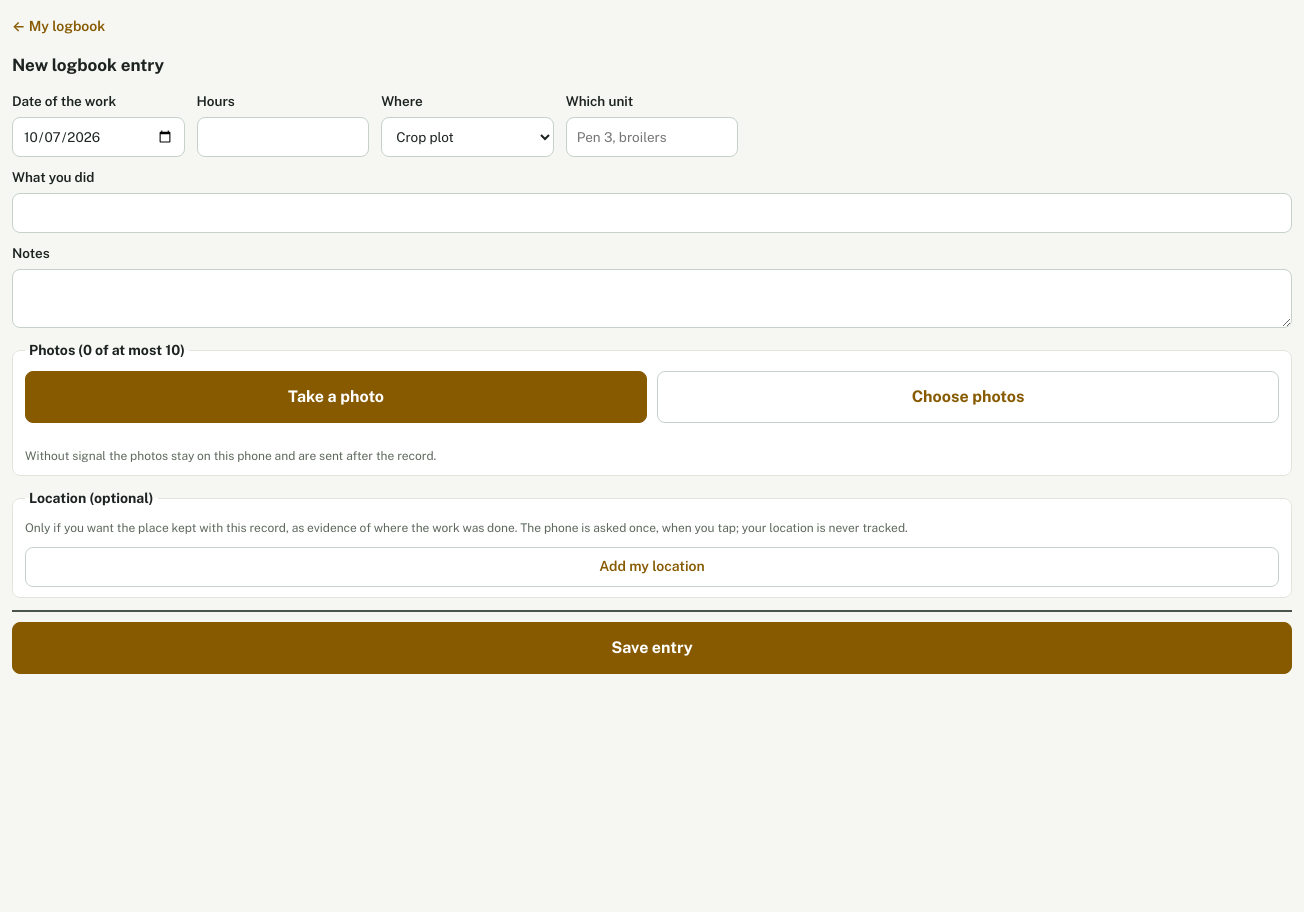
a student's logbook (item 3.14) › shows a refusal from the server
Type "2.5" into the number field labelled "Hours" at (283, 137), box [197,117,369,157]
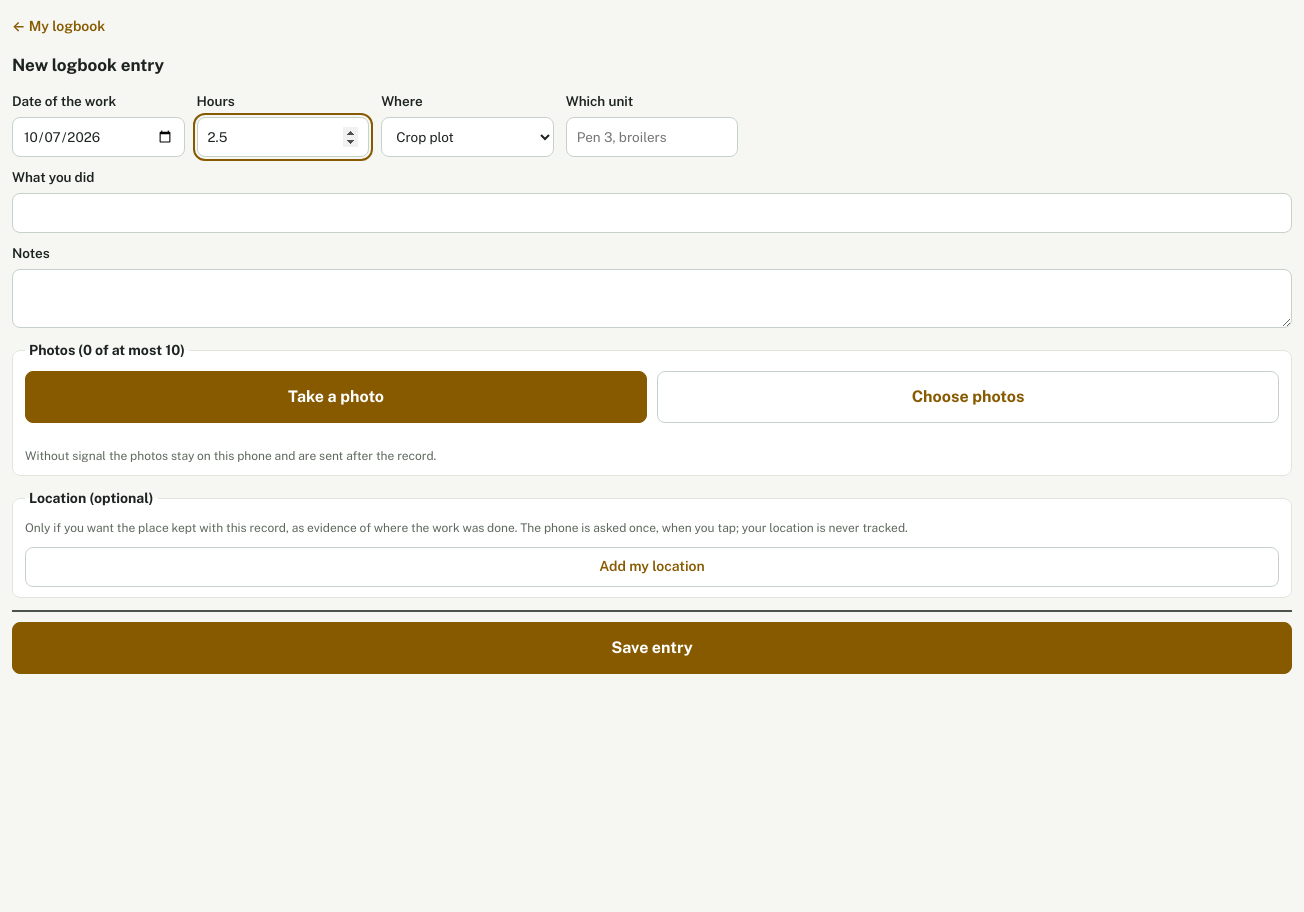
Select "Fish pond" in the dropdown labelled "Where" at (467, 137), box [381,117,554,157]
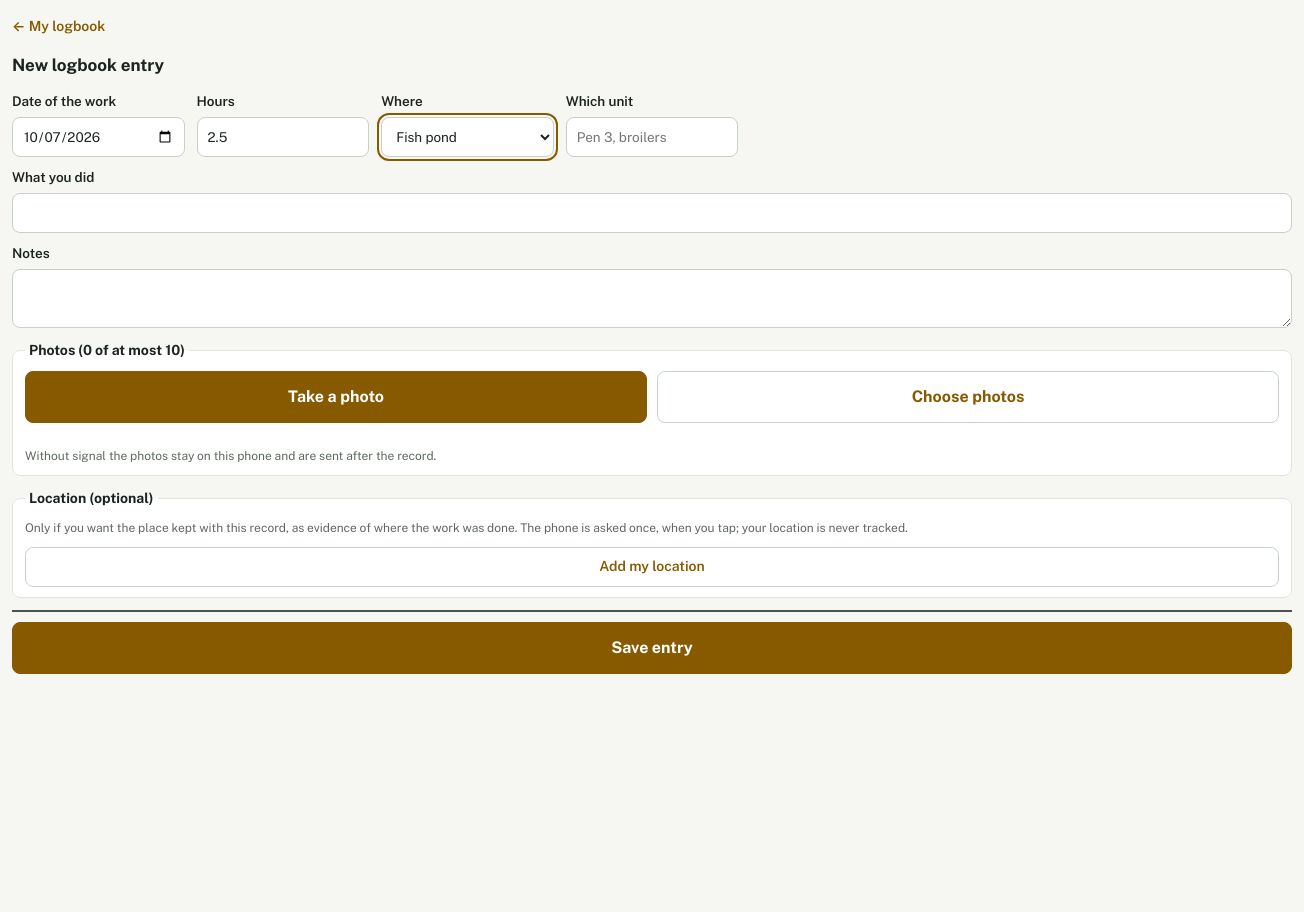
Type "Pond 2, tilapia" into the field labelled "Which unit" at (652, 137), box [566,117,738,157]
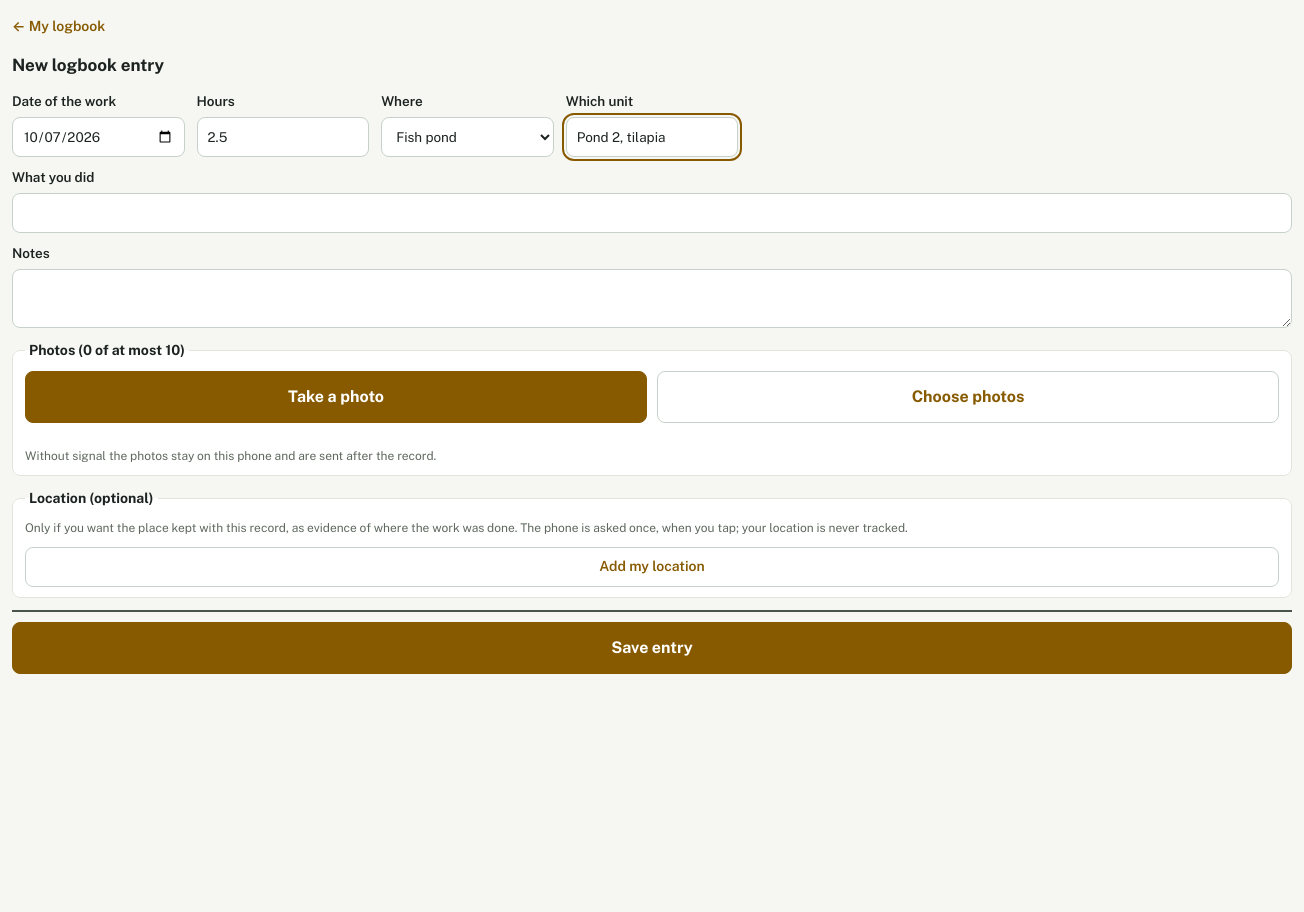
Type "Fed fingerlings and checked oxygen" into the field labelled "What you did" at (652, 213), box [12,193,1292,233]
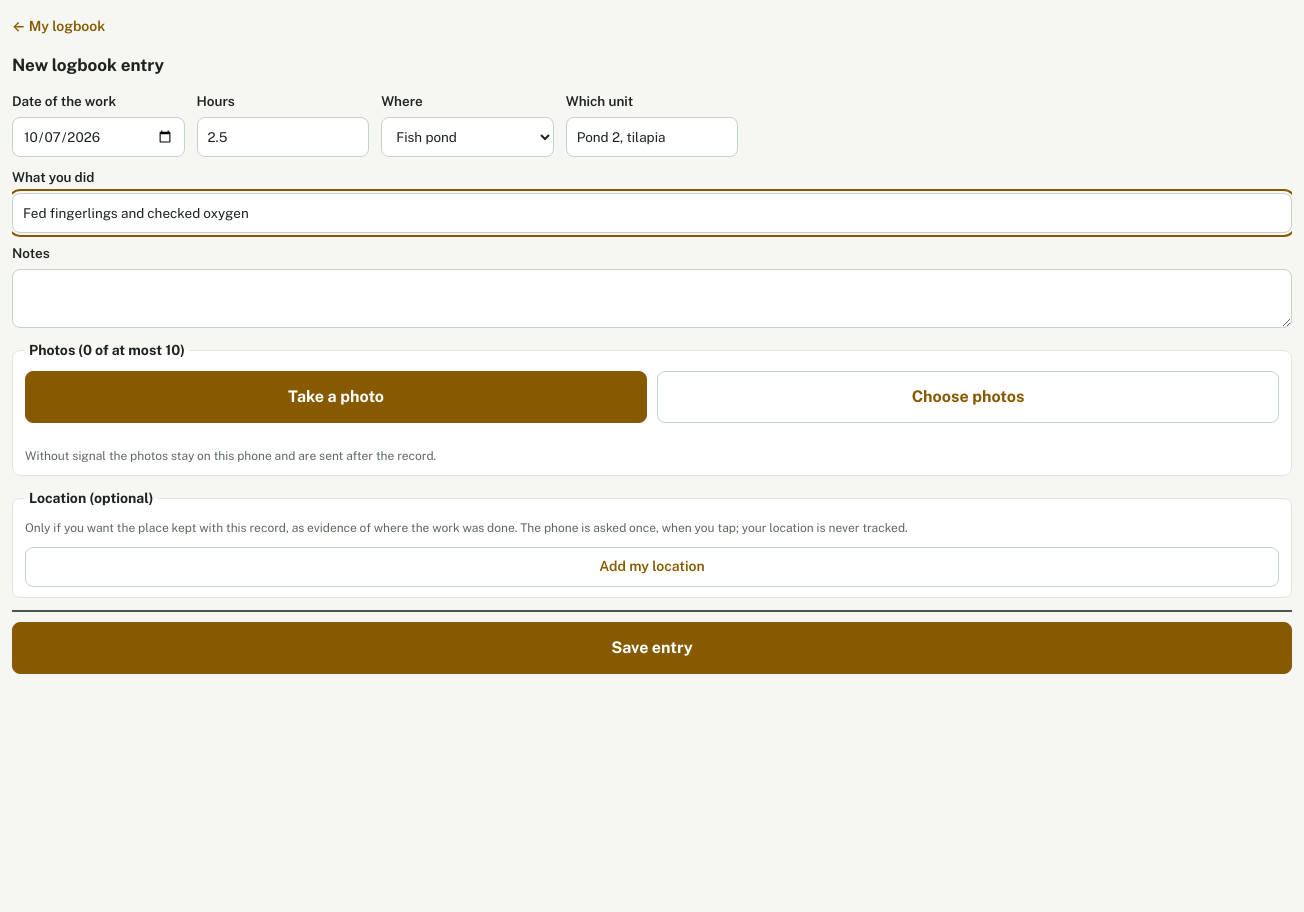
Click the button "Save entry" at (652, 648), box [12,622,1292,674]
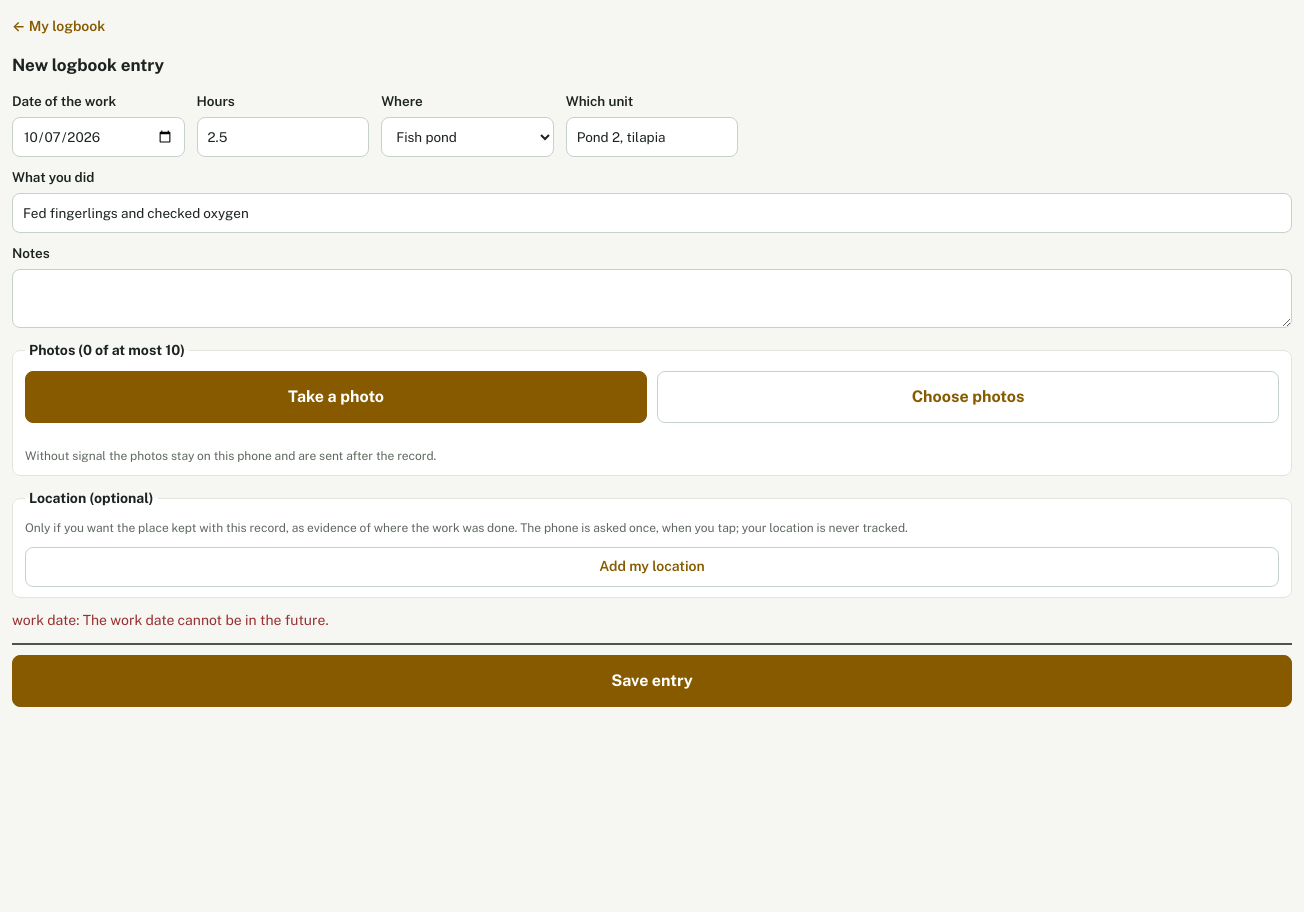
Now the message reads "work date: The work date cannot be in the future.", box [12,612,328,628]
